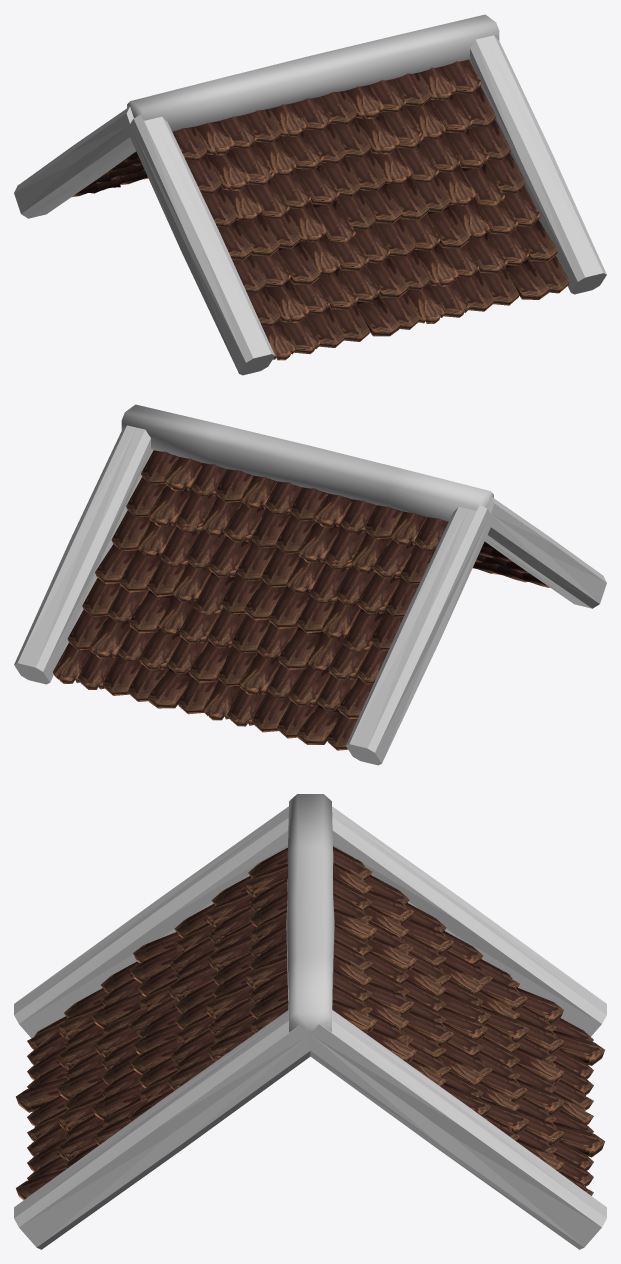
File: VV-RoofTile13.fbx
The picture shows the model from 3 angles, top to bottom: view 1: azimuth 30°, elevation 25°; view 2: azimuth 150°, elevation 25°; view 3: azimuth 270°, elevation 25°; orthographic projection. The views are drawn at different scales.
Parts seen in each view (by area): view 1: RoofTile.13; view 2: RoofTile.13; view 3: RoofTile.13.
Part boxes in pixels (x1=…): RoofTile.13: x1=14, y1=14, x2=606, y2=375; RoofTile.13: x1=14, y1=404, x2=606, y2=765; RoofTile.13: x1=14, y1=794, x2=606, y2=1249.
Bounding box in the file's own units: 4.38 × 2.23 × 4.93.
